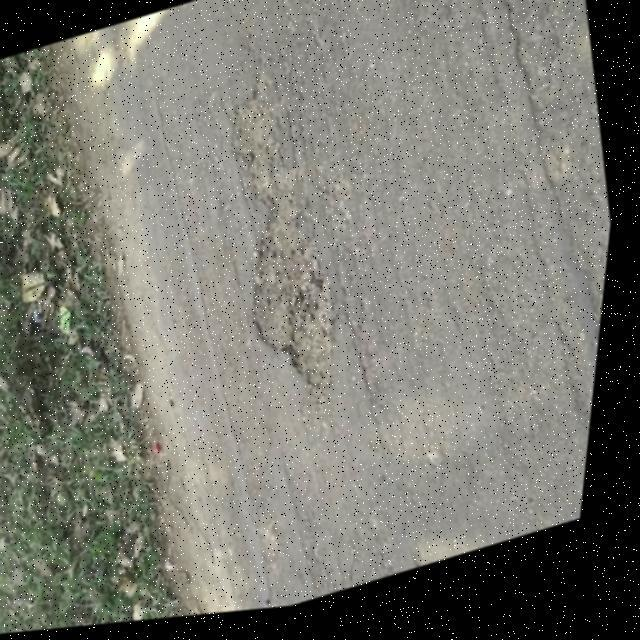pothole: (200, 78, 379, 421)
